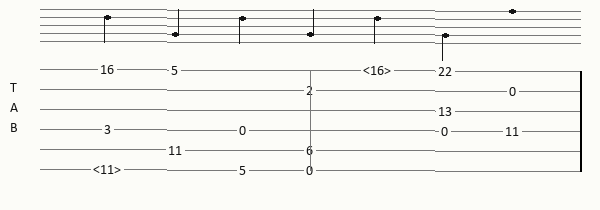0: (239, 124, 250, 137), (306, 164, 317, 177), (441, 124, 452, 137), (509, 84, 520, 97)
11: (168, 144, 186, 157), (505, 124, 523, 137)
13: (438, 104, 456, 117)
16: (100, 64, 118, 77)
2: (306, 84, 317, 97)
22: (438, 64, 456, 77)
3: (104, 124, 115, 137)
5: (171, 64, 182, 77), (239, 164, 250, 177)
6: (306, 144, 317, 157)
harmonic: (93, 164, 125, 177), (363, 64, 395, 77)
